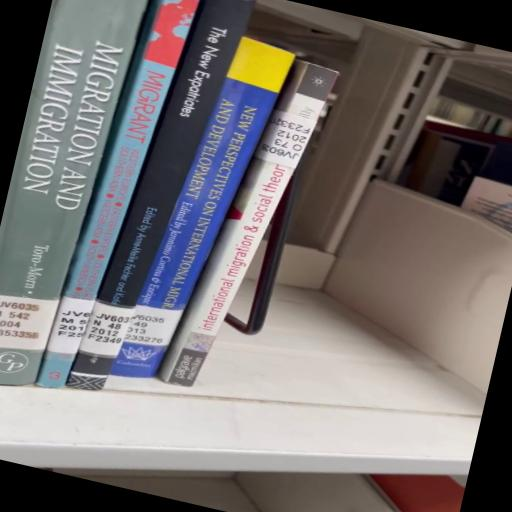reverse: (159, 61, 338, 387)
